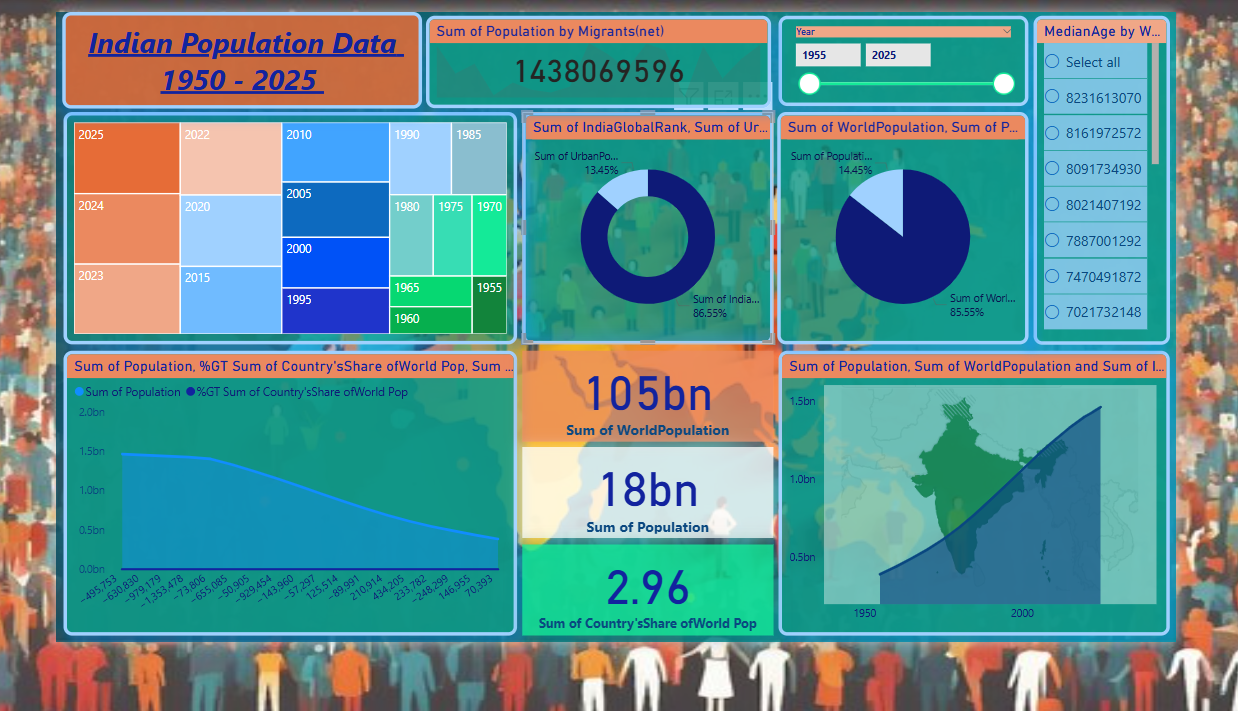

The dashboard page shown, as its layout file describes it:
{"tool":"powerbi","page":{"name":"Page 1","canvas":[1280,720],"ordinal":0},"visuals":[{"type":"areaChart","fields":{"Category":["Table 3.Year"],"Y":["Sum(Table 3.Population)"]},"box":[825.7,387.1,447.1,325.7],"z":0},{"type":"donutChart","fields":{"Y":["Sum(Table 3.IndiaGlobalRank)","Sum(Table 3.UrbanPop %)"]},"box":[532.9,114.3,287.1,265.7],"z":1000},{"type":"treemap","fields":{"Group":["Table 3.Year"],"Values":["Sum(Table 3.Population)"]},"box":[8.6,114.3,518.6,265.7],"z":2000},{"type":"listSlicer","fields":{"Values":["Table 3.WorldPopulation"]},"box":[1117.1,4.3,155.7,375.7],"z":3000},{"type":"slicer","fields":{"Values":["Table 3.Year"]},"box":[825.7,4.3,285.7,102.9],"z":4000},{"type":"textbox","box":[7.1,0,411.4,110],"z":5000},{"type":"pieChart","fields":{"Y":["Sum(Table 3.WorldPopulation)","Sum(Table 3.Population)"]},"box":[824.3,114.3,287.1,265.7],"z":6000},{"type":"areaChart","fields":{"Y":["Sum(Table 3.Population)","Sum(Table 3.Country'sShare ofWorld Pop)"],"Category":["Table 3.Migrants(net)"]},"box":[8.6,387.1,518.6,325.7],"z":7000},{"type":"kpi","fields":{"Indicator":["Sum(Table 3.Population)"],"TrendLine":["Table 3.Migrants(net)"]},"box":[422.9,4.3,394.3,105.7],"z":8000},{"type":"card","fields":{"Values":["Sum(Table 3.WorldPopulation)"]},"box":[532.9,387.1,287.1,104.3],"z":9000},{"type":"card","fields":{"Values":["Sum(Table 3.Population)"]},"box":[532.9,497.1,287.1,104.3],"z":10000},{"type":"card","fields":{"Values":["Sum(Table 3.Country'sShare ofWorld Pop)"]},"box":[532.9,608.6,287.1,104.3],"z":11000}]}

Visuals, with their boxes in screenshot pixels (x1, y1, x2, y2), scaled from the page's 1280x720 canvas onto the 1238x711 screenshot:
areaChart - Table 3.Year x Sum(Table 3.Population): rect(799, 382, 1231, 704)
donutChart - Sum(Table 3.IndiaGlobalRank) x Sum(Table 3.UrbanPop %): rect(515, 113, 793, 375)
treemap - Table 3.Year x Sum(Table 3.Population): rect(8, 113, 510, 375)
listSlicer - Table 3.WorldPopulation: rect(1080, 4, 1231, 375)
slicer - Table 3.Year: rect(799, 4, 1075, 106)
textbox: rect(7, 0, 405, 109)
pieChart - Sum(Table 3.WorldPopulation) x Sum(Table 3.Population): rect(797, 113, 1075, 375)
areaChart - Sum(Table 3.Population) x Sum(Table 3.Country'sShare ofWorld Pop): rect(8, 382, 510, 704)
kpi - Sum(Table 3.Population) x Table 3.Migrants(net): rect(409, 4, 790, 109)
card - Sum(Table 3.WorldPopulation): rect(515, 382, 793, 485)
card - Sum(Table 3.Population): rect(515, 491, 793, 594)
card - Sum(Table 3.Country'sShare ofWorld Pop): rect(515, 601, 793, 704)
